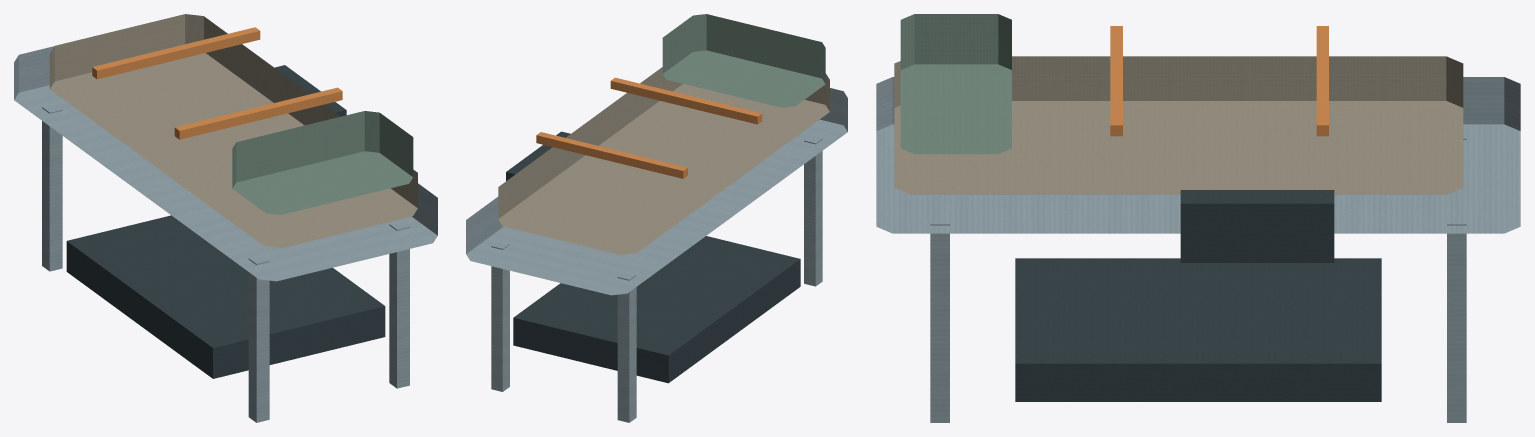
The model's file is medical_exam_cot.glb.
The picture shows the model from 3 angles, left to right: view 1: azimuth 30°, elevation 25°; view 2: azimuth 150°, elevation 25°; view 3: azimuth 270°, elevation 25°; orthographic projection. The views are drawn at different scales.
Visible parts, largest first — view 1: Medical_Mattress__fabricwarm, Support_Frame__graphite, Cot_Frame__alloy, Headrest__fabric, Cot_Legs__alloy, Patient_Retention__amber, Cot_Adjustment__graphite; view 2: Medical_Mattress__fabricwarm, Support_Frame__graphite, Cot_Frame__alloy, Headrest__fabric, Cot_Legs__alloy, Patient_Retention__amber, Cot_Adjustment__graphite; view 3: Medical_Mattress__fabricwarm, Support_Frame__graphite, Cot_Frame__alloy, Headrest__fabric, Cot_Adjustment__graphite, Cot_Legs__alloy, Patient_Retention__amber.
Boxes of the visible parts, x1,y1,x2,y2 form: Medical_Mattress__fabricwarm: (49, 14, 417, 247); Support_Frame__graphite: (66, 215, 385, 378); Cot_Frame__alloy: (14, 46, 437, 281); Headrest__fabric: (232, 111, 413, 214); Cot_Legs__alloy: (42, 104, 409, 422); Patient_Retention__amber: (92, 27, 342, 139); Cot_Adjustment__graphite: (275, 65, 346, 116); Medical_Mattress__fabricwarm: (498, 67, 829, 254); Support_Frame__graphite: (513, 236, 800, 383); Cot_Frame__alloy: (466, 88, 847, 295); Headrest__fabric: (662, 14, 825, 107); Cot_Legs__alloy: (491, 135, 822, 422); Patient_Retention__amber: (536, 77, 762, 178); Cot_Adjustment__graphite: (506, 131, 570, 180); Medical_Mattress__fabricwarm: (894, 56, 1463, 194); Support_Frame__graphite: (1015, 258, 1381, 401); Cot_Frame__alloy: (876, 77, 1520, 233); Headrest__fabric: (900, 14, 1011, 154); Cot_Adjustment__graphite: (1180, 190, 1334, 262); Cot_Legs__alloy: (930, 130, 1466, 422); Patient_Retention__amber: (1110, 26, 1328, 136).
Bounding box in the file's own units: 0.895 × 1.07 × 1.97.
5 materials, 5 textured.
